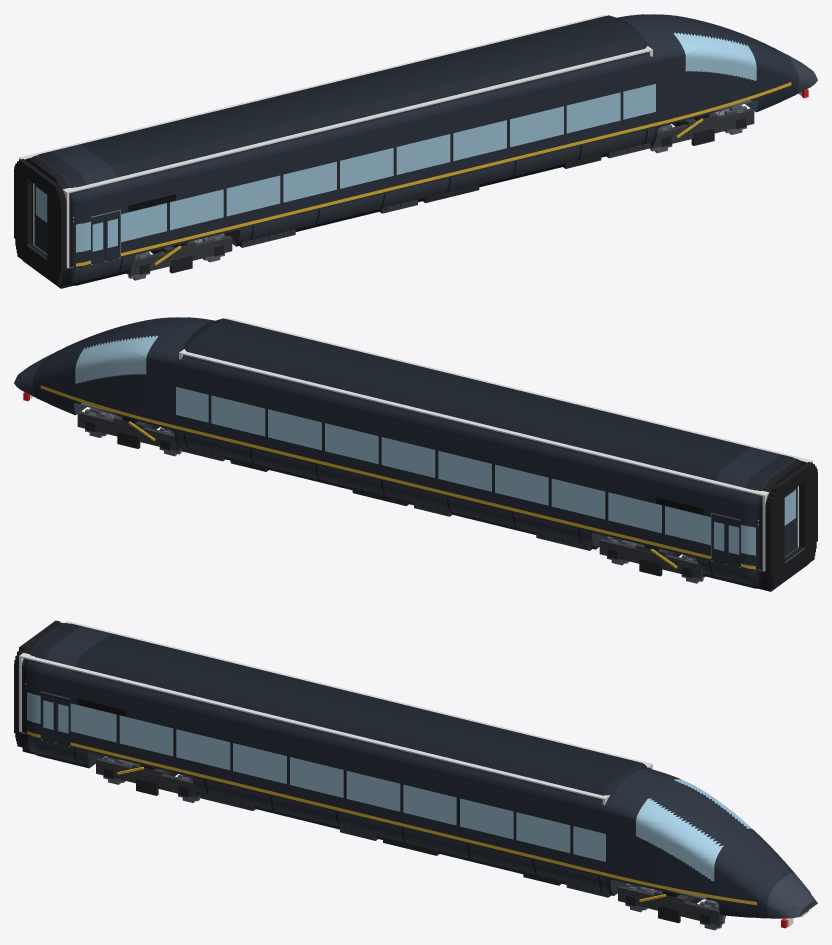
The model's file is e320_front.obj.
The picture shows the model from 3 angles, top to bottom: view 1: azimuth 30°, elevation 25°; view 2: azimuth 150°, elevation 25°; view 3: azimuth 330°, elevation 25°; orthographic projection.
Parts seen in each view (by area): view 1: SHELL, SHELL_diaphragm, SHELL_ceiling, BOGEY_REAR, BOGEY_FRONT, FRAME, CONNECTING_DOOR_1_CG_CR_TOGGLE_TL_0.98_Z, EXTERNAL_DOOR_3_CG_DR1_TOGGLE_TL_-0.44_X, EXTERNAL_DOOR_4_CG_DR1_TOGGLE_TL_0.44_X; view 2: SHELL, SHELL_diaphragm, SHELL_ceiling, BOGEY_REAR, BOGEY_FRONT, FRAME, CONNECTING_DOOR_1_CG_CR_TOGGLE_TL_0.98_Z, EXTERNAL_DOOR_6_CG_DL1_TOGGLE_TL_-0.44_X, EXTERNAL_DOOR_7_CG_DL1_TOGGLE_TL_0.44_X; view 3: SHELL, SHELL_ceiling, BOGEY_FRONT, BOGEY_REAR, FRAME, EXTERNAL_DOOR_3_CG_DR1_TOGGLE_TL_-0.44_X, EXTERNAL_DOOR_4_CG_DR1_TOGGLE_TL_0.44_X.
Boxes of the visible parts, x1,y1,x2,y2 form: SHELL: [22, 14, 817, 288]; SHELL_diaphragm: [14, 159, 65, 285]; SHELL_ceiling: [21, 15, 650, 193]; BOGEY_REAR: [128, 235, 232, 275]; BOGEY_FRONT: [650, 108, 754, 148]; FRAME: [91, 142, 650, 264]; CONNECTING_DOOR_1_CG_CR_TOGGLE_TL_0.98_Z: [34, 184, 47, 253]; EXTERNAL_DOOR_3_CG_DR1_TOGGLE_TL_-0.44_X: [91, 214, 105, 263]; EXTERNAL_DOOR_4_CG_DR1_TOGGLE_TL_0.44_X: [106, 210, 120, 259]; SHELL: [14, 317, 809, 591]; SHELL_diaphragm: [766, 462, 817, 588]; SHELL_ceiling: [181, 318, 810, 496]; BOGEY_REAR: [599, 538, 703, 578]; BOGEY_FRONT: [77, 411, 181, 451]; FRAME: [181, 445, 740, 567]; CONNECTING_DOOR_1_CG_CR_TOGGLE_TL_0.98_Z: [784, 487, 797, 556]; EXTERNAL_DOOR_6_CG_DL1_TOGGLE_TL_-0.44_X: [726, 517, 740, 566]; EXTERNAL_DOOR_7_CG_DL1_TOGGLE_TL_0.44_X: [711, 513, 725, 562]; SHELL: [18, 621, 817, 918]; SHELL_ceiling: [21, 621, 649, 799]; BOGEY_FRONT: [618, 885, 721, 925]; BOGEY_REAR: [96, 758, 199, 798]; FRAME: [40, 738, 625, 897]; EXTERNAL_DOOR_3_CG_DR1_TOGGLE_TL_-0.44_X: [40, 692, 56, 741]; EXTERNAL_DOOR_4_CG_DR1_TOGGLE_TL_0.44_X: [56, 696, 70, 745].
Size of the model in its own units: 25.86 by 3.9 by 2.94.
Materials: 1 (1 with a texture image).
